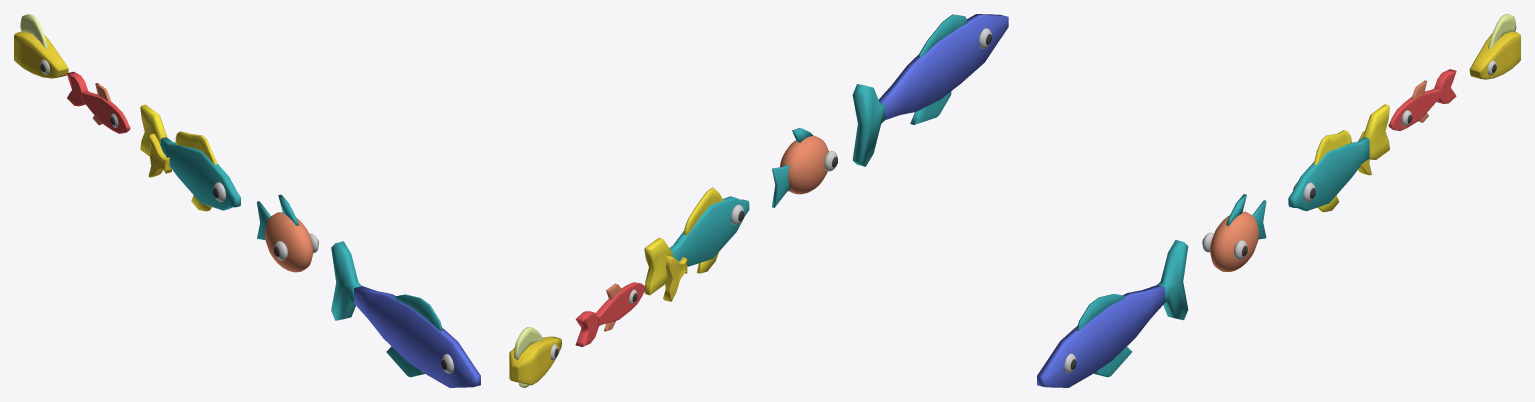
File: Fishie.fbx
3 views of the same model, side by side, from view 1: azimuth 30°, elevation 25°; view 2: azimuth 150°, elevation 25°; view 3: azimuth 330°, elevation 25° (orthographic). The views are drawn at different scales.
Visible parts, largest first — view 1: Sphere.019, Sphere.006, Plane.012, Plane.002, Plane.016, Sphere.010, Plane.009, Plane.003, Plane.007; view 2: Sphere.019, Sphere.006, Plane.012, Plane.002, Plane.016, Sphere.010, Plane.009, Plane.003, Plane.007, Plane.013; view 3: Sphere.019, Sphere.006, Plane.012, Plane.002, Plane.016, Sphere.010, Plane.009, Plane.007.
Boxes of the visible parts, bbox=[...] form: Sphere.019: bbox=[354, 286, 480, 387]; Sphere.006: bbox=[160, 131, 240, 211]; Plane.012: bbox=[265, 194, 318, 272]; Plane.002: bbox=[14, 14, 68, 78]; Plane.016: bbox=[331, 241, 361, 320]; Sphere.010: bbox=[82, 83, 130, 133]; Plane.009: bbox=[140, 104, 167, 156]; Plane.003: bbox=[148, 133, 171, 177]; Plane.007: bbox=[67, 71, 87, 106]; Sphere.019: bbox=[879, 14, 1008, 124]; Sphere.006: bbox=[669, 187, 749, 273]; Plane.012: bbox=[780, 128, 837, 194]; Plane.002: bbox=[509, 327, 561, 387]; Plane.016: bbox=[852, 84, 885, 166]; Sphere.010: bbox=[595, 282, 645, 331]; Plane.009: bbox=[644, 238, 672, 295]; Plane.003: bbox=[663, 255, 687, 301]; Plane.007: bbox=[575, 311, 599, 346]; Plane.013: bbox=[772, 164, 790, 207]; Sphere.019: bbox=[1037, 285, 1164, 387]; Sphere.006: bbox=[1288, 130, 1369, 212]; Plane.012: bbox=[1202, 194, 1258, 271]; Plane.002: bbox=[1469, 14, 1520, 79]; Plane.016: bbox=[1157, 240, 1188, 320]; Sphere.010: bbox=[1388, 80, 1440, 130]; Plane.009: bbox=[1362, 104, 1389, 159]; Plane.007: bbox=[1434, 69, 1456, 103].
Bounding box in the file's own units: 214 × 405 × 4050.
